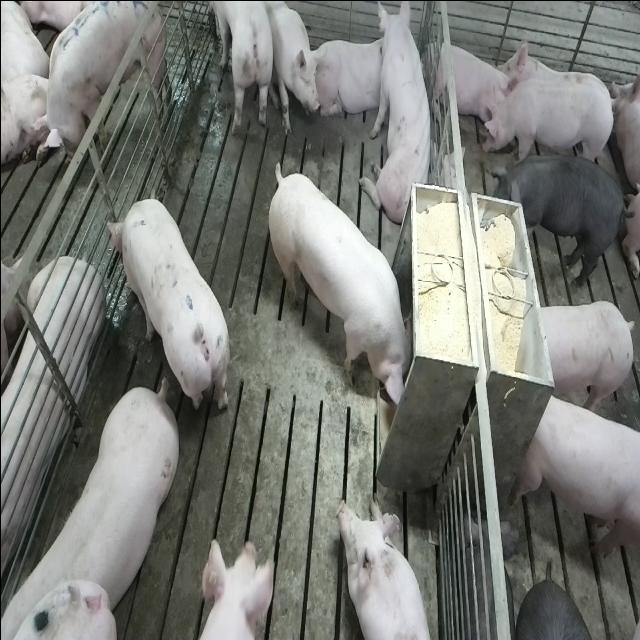Feeding: (271, 161, 420, 410)
Sitting: (364, 4, 436, 230), (266, 2, 319, 140)
Standing: (5, 373, 184, 633), (104, 197, 230, 420), (516, 386, 638, 565), (26, 0, 165, 157), (499, 146, 625, 284), (479, 72, 617, 170), (532, 297, 634, 414), (202, 0, 273, 132)
Sternal_lying: (0, 256, 101, 578), (334, 495, 435, 640), (192, 536, 280, 640), (426, 32, 510, 132), (310, 35, 391, 122)
